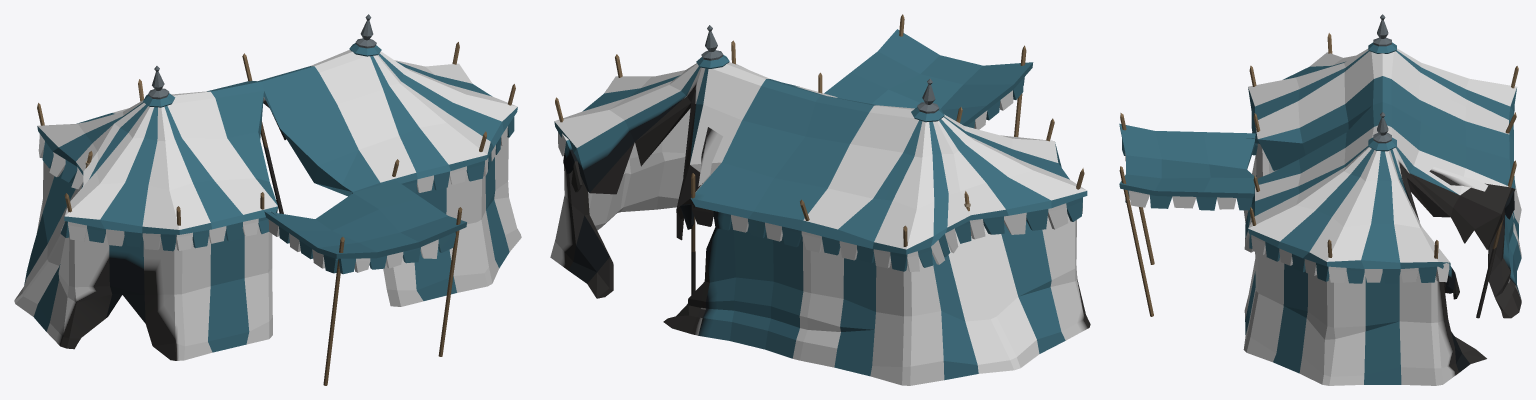
The model's file is bld_tent_large_burnt.gltf.
3 renders of one model, left to right at view 1: azimuth 30°, elevation 25°; view 2: azimuth 150°, elevation 25°; view 3: azimuth 270°, elevation 25°, orthographic. The views are drawn at different scales.
Parts seen in each view (by area): view 1: bld_tent_large_burnt; view 2: bld_tent_large_burnt; view 3: bld_tent_large_burnt.
Part boxes in pixels (bbox=[...]): bld_tent_large_burnt: bbox=[14, 14, 521, 385]; bld_tent_large_burnt: bbox=[550, 14, 1090, 385]; bld_tent_large_burnt: bbox=[1119, 14, 1521, 385].
Size of the model in its own units: 9.68 by 4.87 by 7.75.
Materials: 1 (1 with a texture image).
